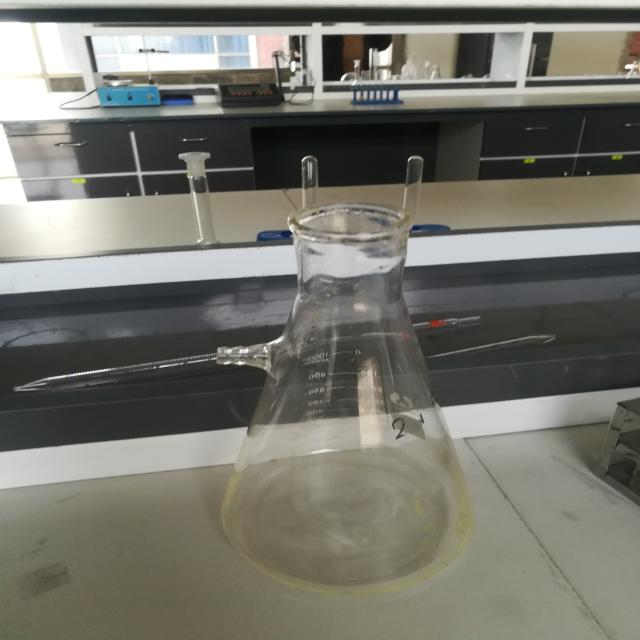Conical_Flask: (179, 186, 519, 612)
